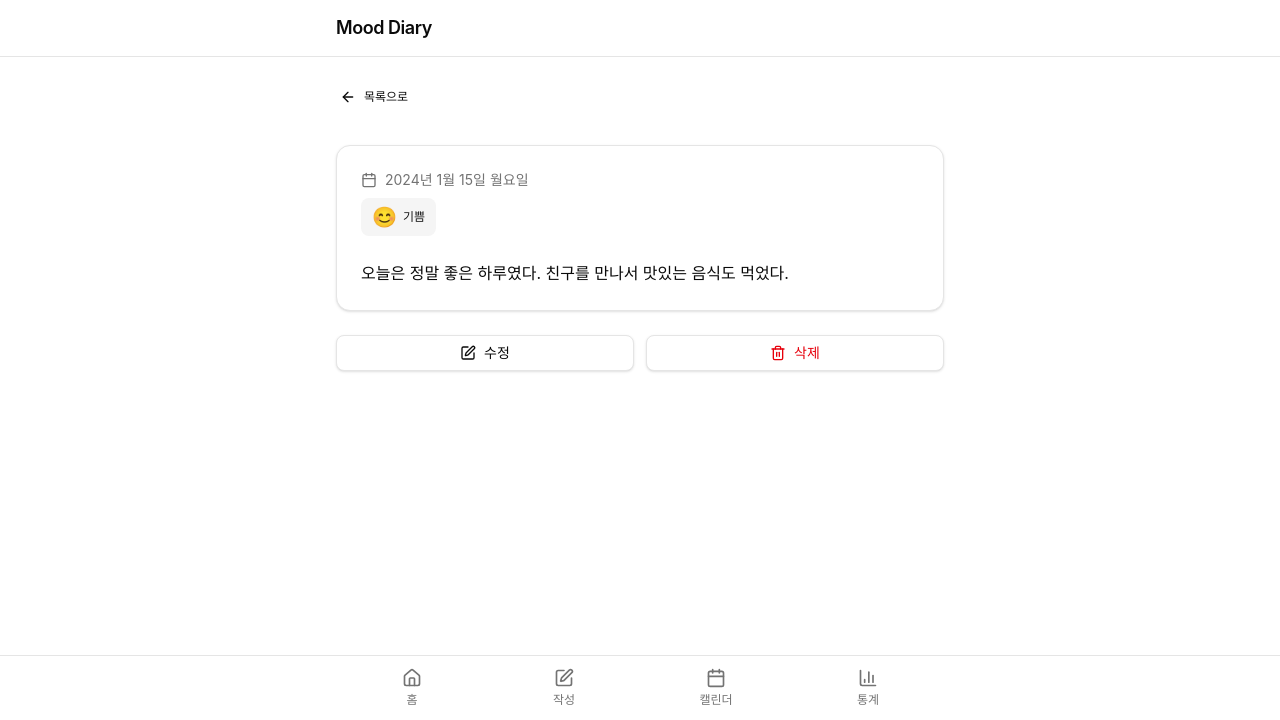
Test case: DetailPage (TC-006, TC-011) › TC-011-3: 삭제 취소 › 취소 버튼 클릭 시 다이얼로그가 닫힌다
The image size is (1280, 720).
Click the button "삭제": {"x": 795, "y": 353} [646, 335, 944, 371]
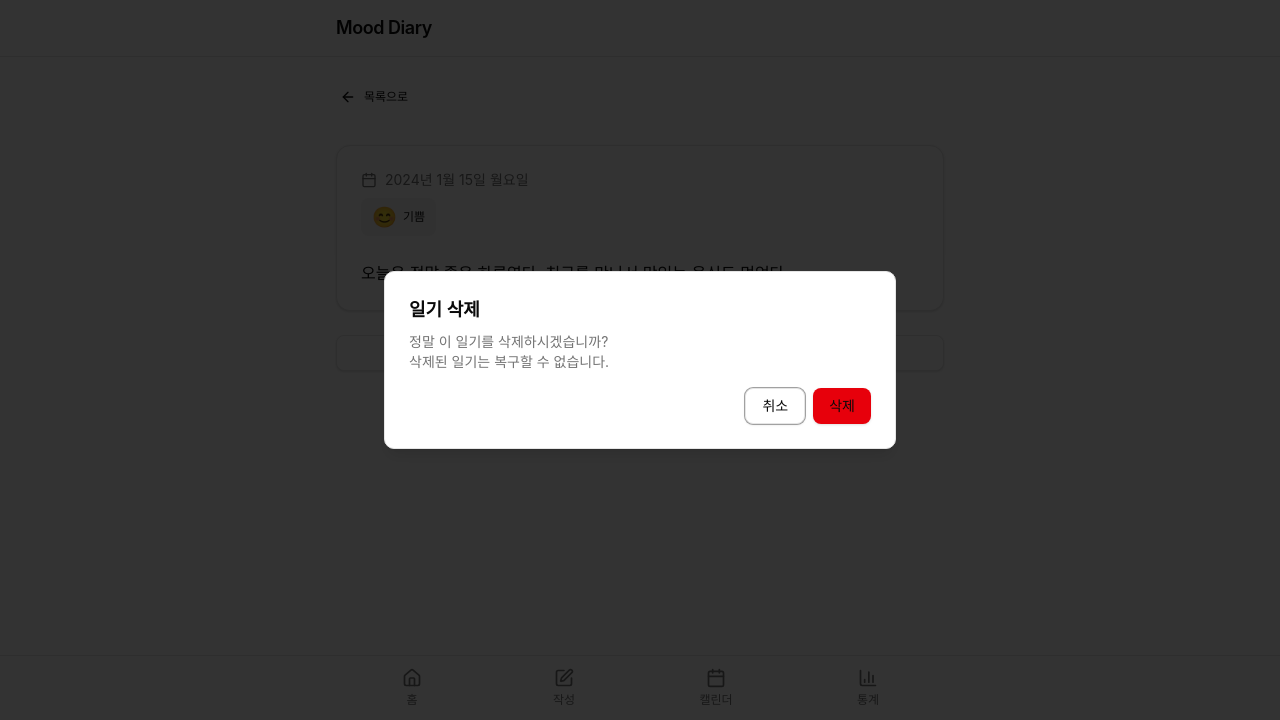
Check: the heading "일기 삭제" is shown, box [409, 299, 480, 320]
Click the button "취소": {"x": 775, "y": 406} [746, 388, 805, 424]
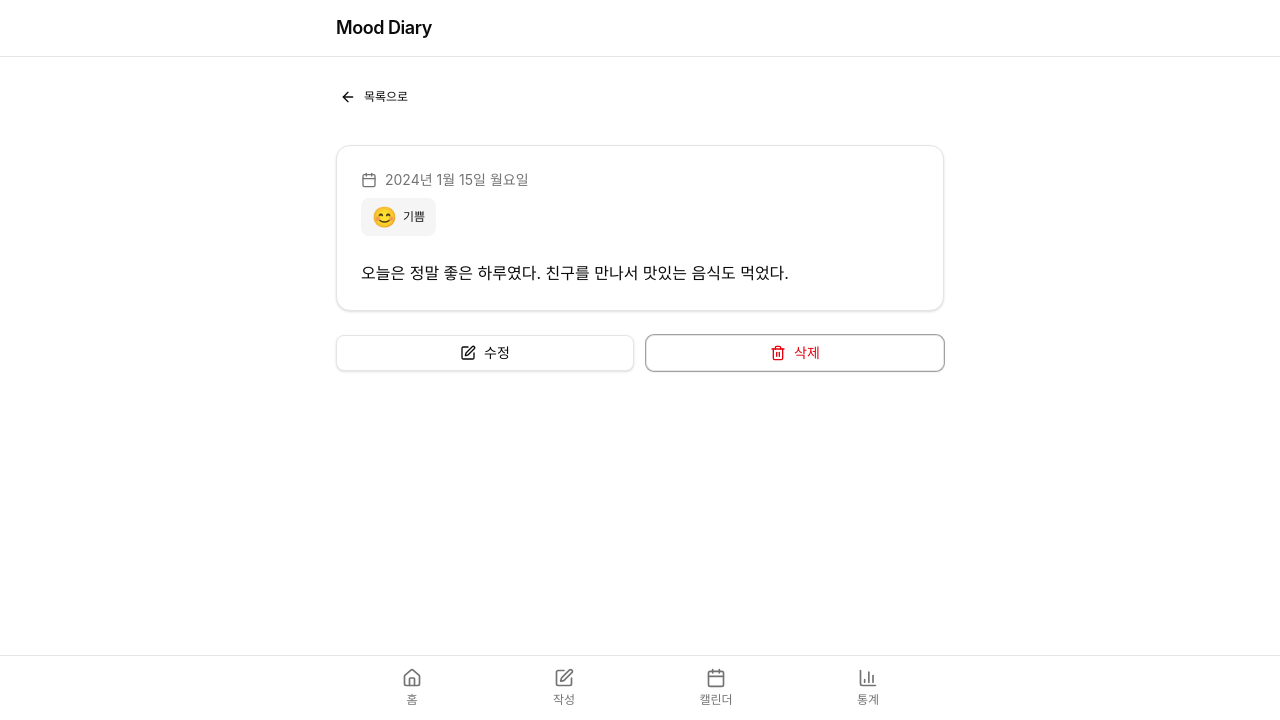
Check: the heading "일기 삭제" is gone
